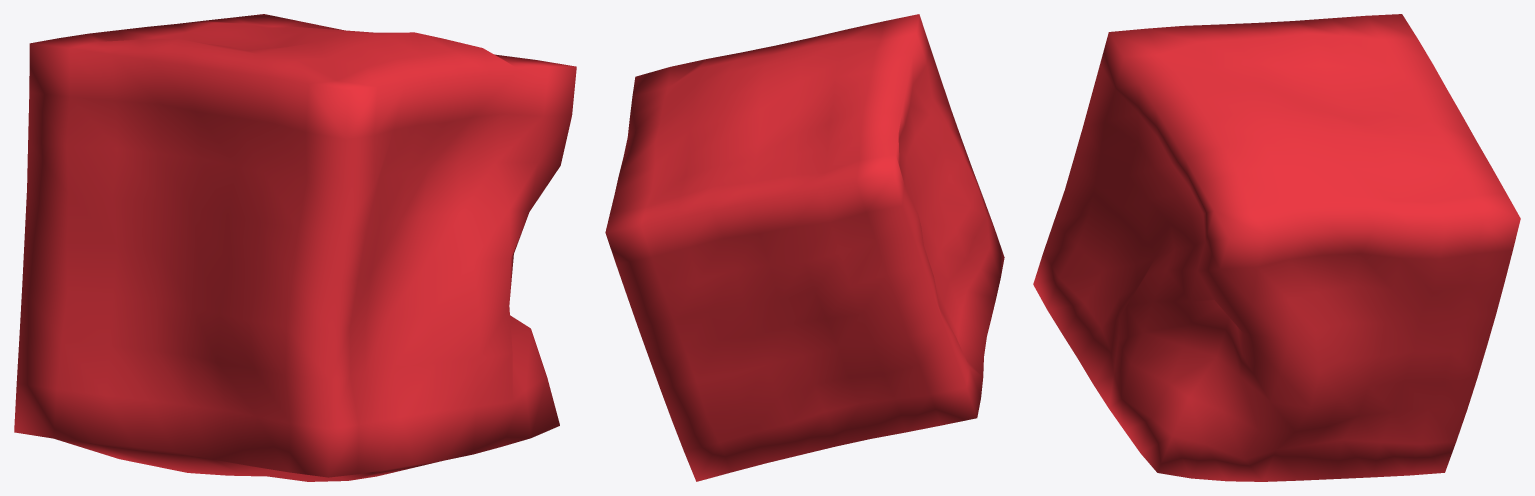
Rendered from jelly_cube.glb.
3 views of the same model, side by side, from view 1: azimuth 30°, elevation 25°; view 2: azimuth 150°, elevation 25°; view 3: azimuth 270°, elevation 25° (orthographic). The views are drawn at different scales.
Parts seen in each view (by area): view 1: Cube_0; view 2: Cube_0; view 3: Cube_0.
Part boxes in pixels (x1,y1,x2,y2): Cube_0: (14, 14, 576, 481); Cube_0: (605, 14, 1004, 481); Cube_0: (1033, 14, 1520, 481).
Size of what is drawn, in the model's own units: 2.96 by 2.73 by 2.98.
